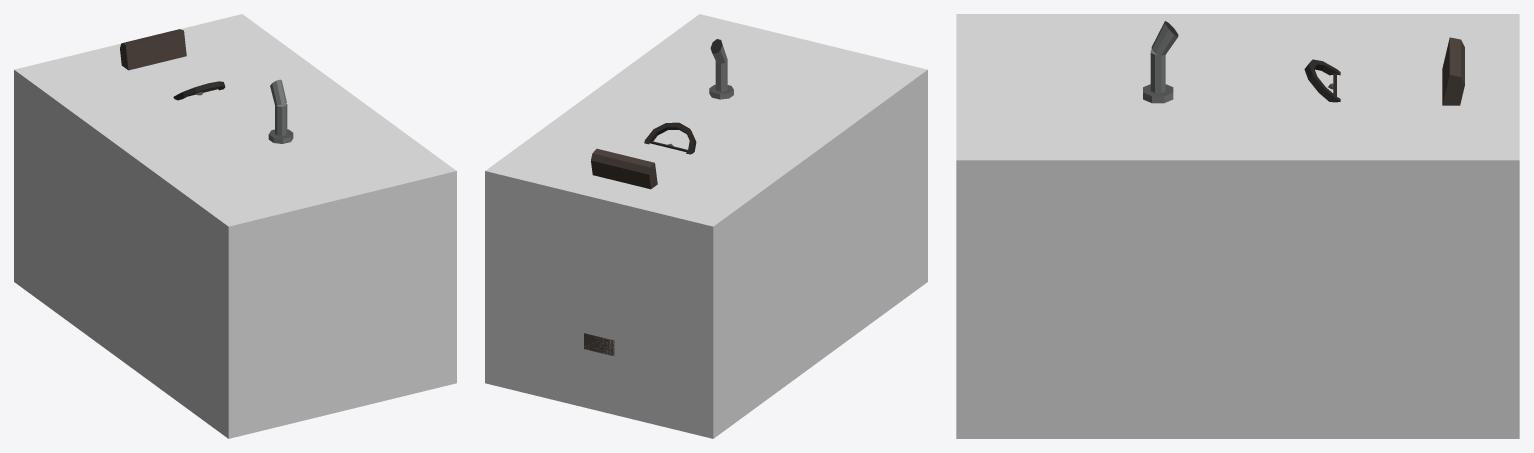
File: FMS_Tractor.fbx
3 renders of one model, left to right at view 1: azimuth 30°, elevation 25°; view 2: azimuth 150°, elevation 25°; view 3: azimuth 270°, elevation 25°, orthographic. The views are drawn at different scales.
Parts seen in each view (by area): view 1: Tractor_Col, Tractor; view 2: Tractor_Col, Tractor; view 3: Tractor_Col, Tractor.
Part boxes in pixels (left/top/right/bottom): Tractor_Col: left=14, top=14, right=456, bottom=438; Tractor: left=120, top=29, right=293, bottom=143; Tractor_Col: left=485, top=14, right=927, bottom=438; Tractor: left=584, top=39, right=733, bottom=355; Tractor_Col: left=956, top=14, right=1519, bottom=438; Tractor: left=1143, top=21, right=1464, bottom=105.
Size of what is drawn, in the model's own units: 1.8 by 2.03 by 2.93.
